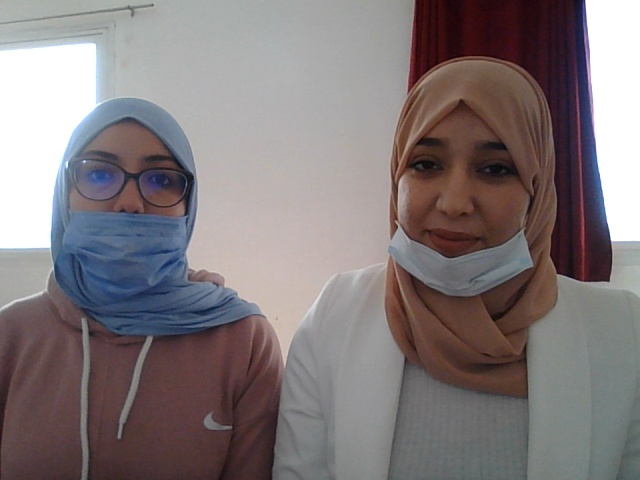mask_weared_incorrect: (374, 57, 568, 309), (47, 98, 231, 326)
